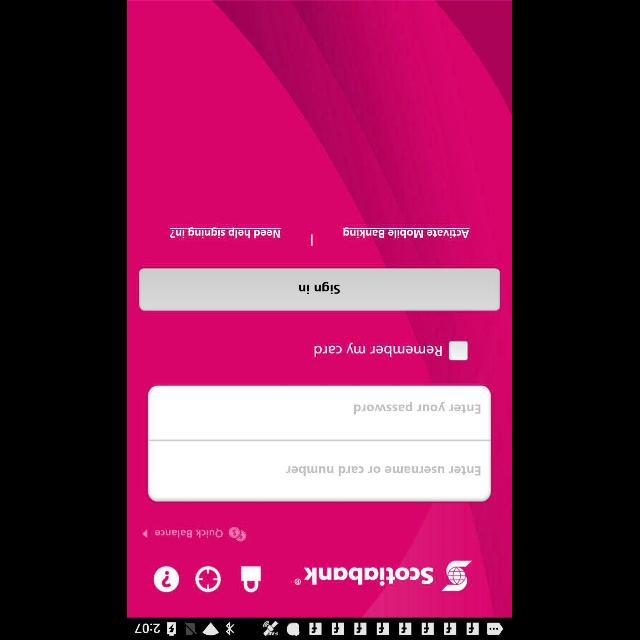checkbox: (449, 342, 468, 360)
icon: (196, 566, 222, 592), (154, 566, 180, 592), (242, 566, 262, 592), (142, 530, 148, 538)
image: (295, 560, 473, 590), (229, 526, 247, 542)
input: (148, 439, 492, 501), (148, 385, 492, 441)
text: (315, 342, 443, 358), (286, 466, 482, 476), (354, 402, 482, 414), (344, 227, 471, 239), (170, 227, 282, 239), (156, 528, 224, 538)
textbutton: (140, 268, 500, 310)
uppertaskbar: (128, 618, 512, 640)
